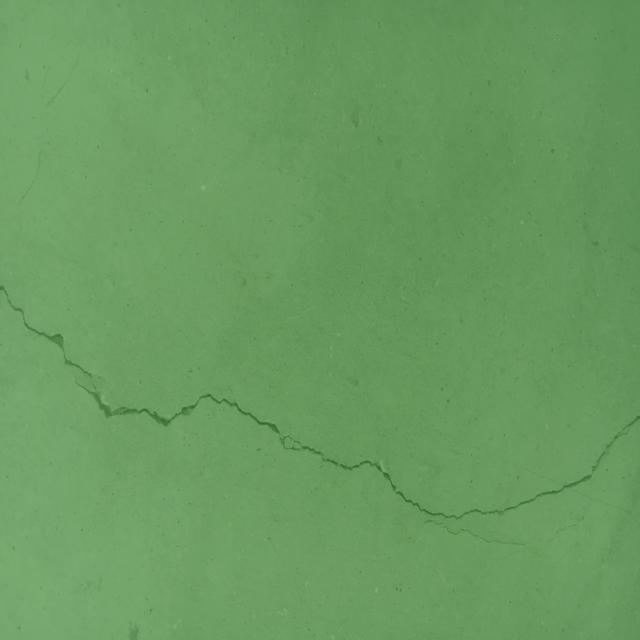crack: (0, 284, 640, 554)
